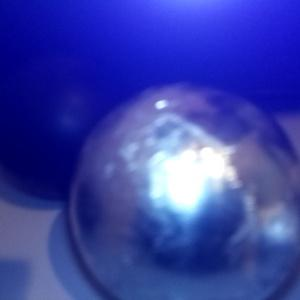alive_ball: (69, 83, 300, 300)
dead_ball: (1, 72, 121, 198)
